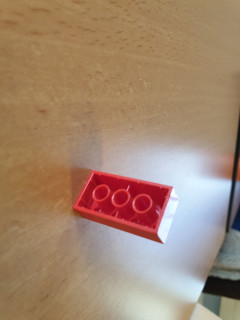2x4 red: (73, 164, 181, 250)
